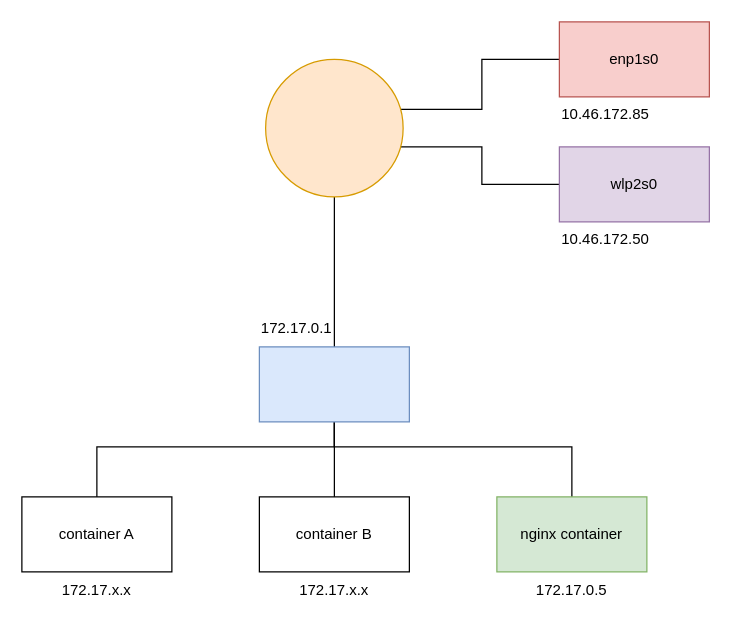
Image size: 731x631. Some labels were removed from this diagram. Each missing label, with the box of its shape:
docker0: (258, 346, 409, 422)
Linux Kernel (routing, netfilter, etc): (264, 58, 403, 197)
